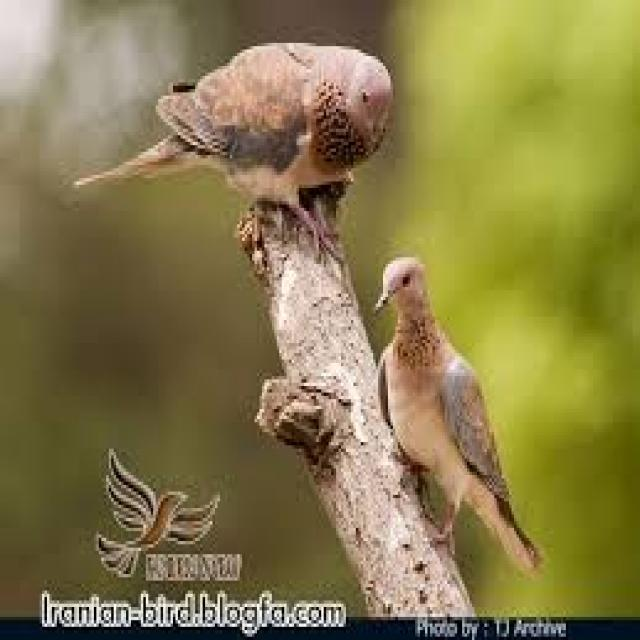bird: (72, 35, 396, 262), (372, 246, 552, 574)
